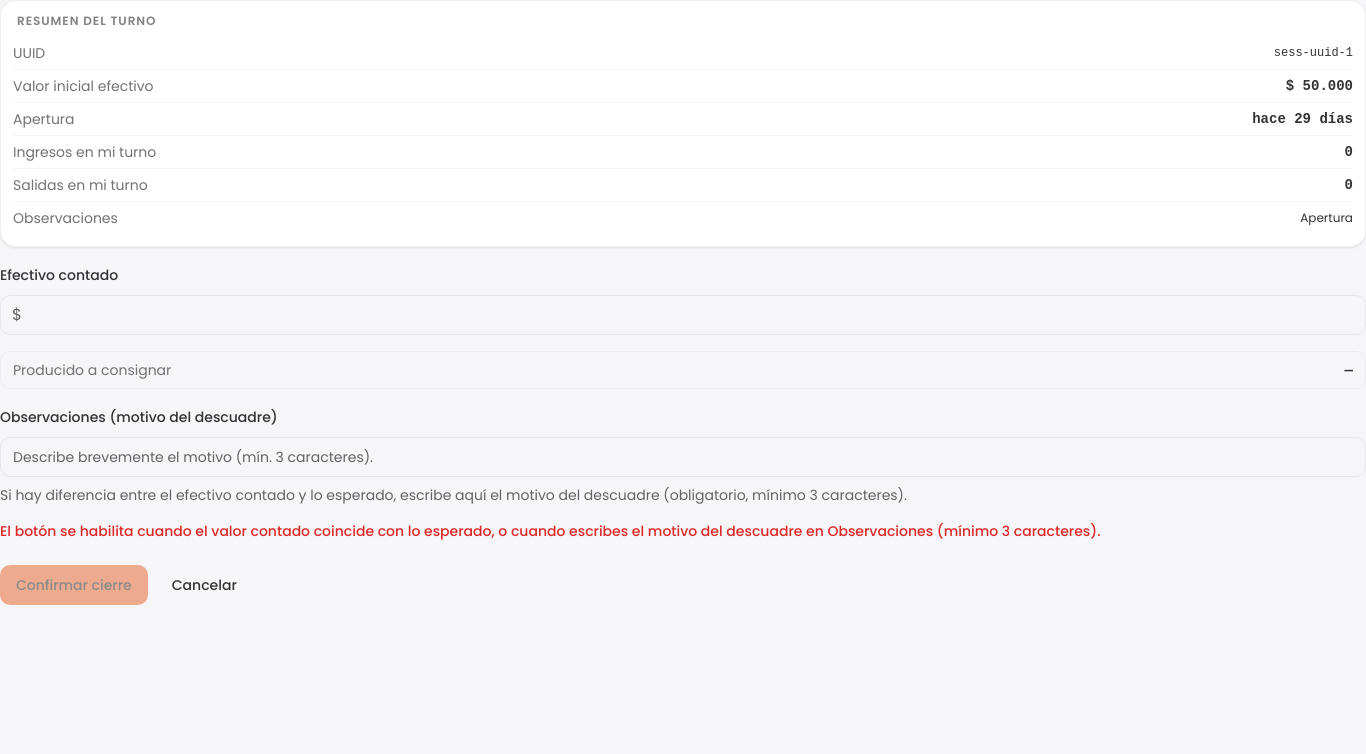
Test: <CerrarTurno /> container — T3 › U12: submit OK → arqueo + cerrarSesion (logout diferido) → resumen de solo lectura, SIN navegar ni cerrar sesión todavía
Step 1. Type "75000" into the field with test id "cerrar-turno-valor-efectivo-reportado" → (683, 315), box [0,295,1365,335]
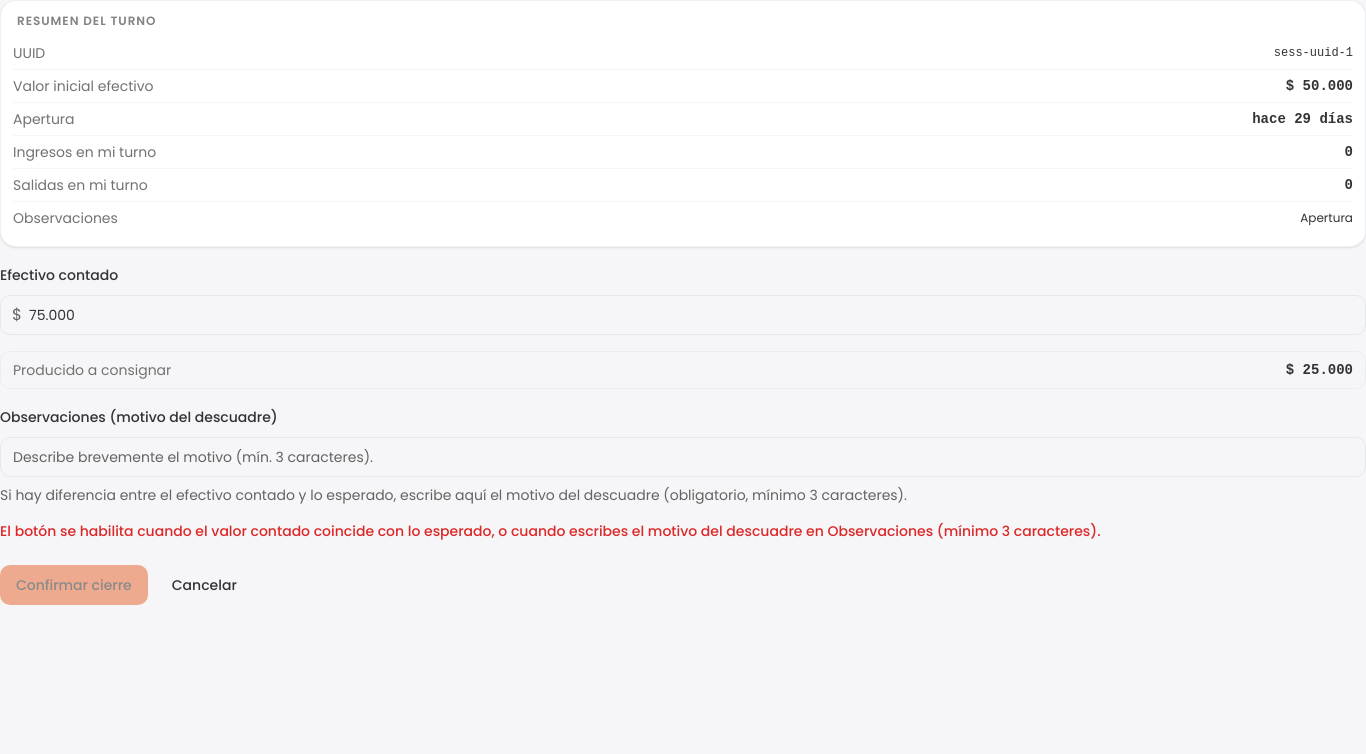
Step 2. Type "Cierre turno tarde" into the field with test id "cerrar-turno-observaciones" → (683, 457), box [0,437,1365,477]
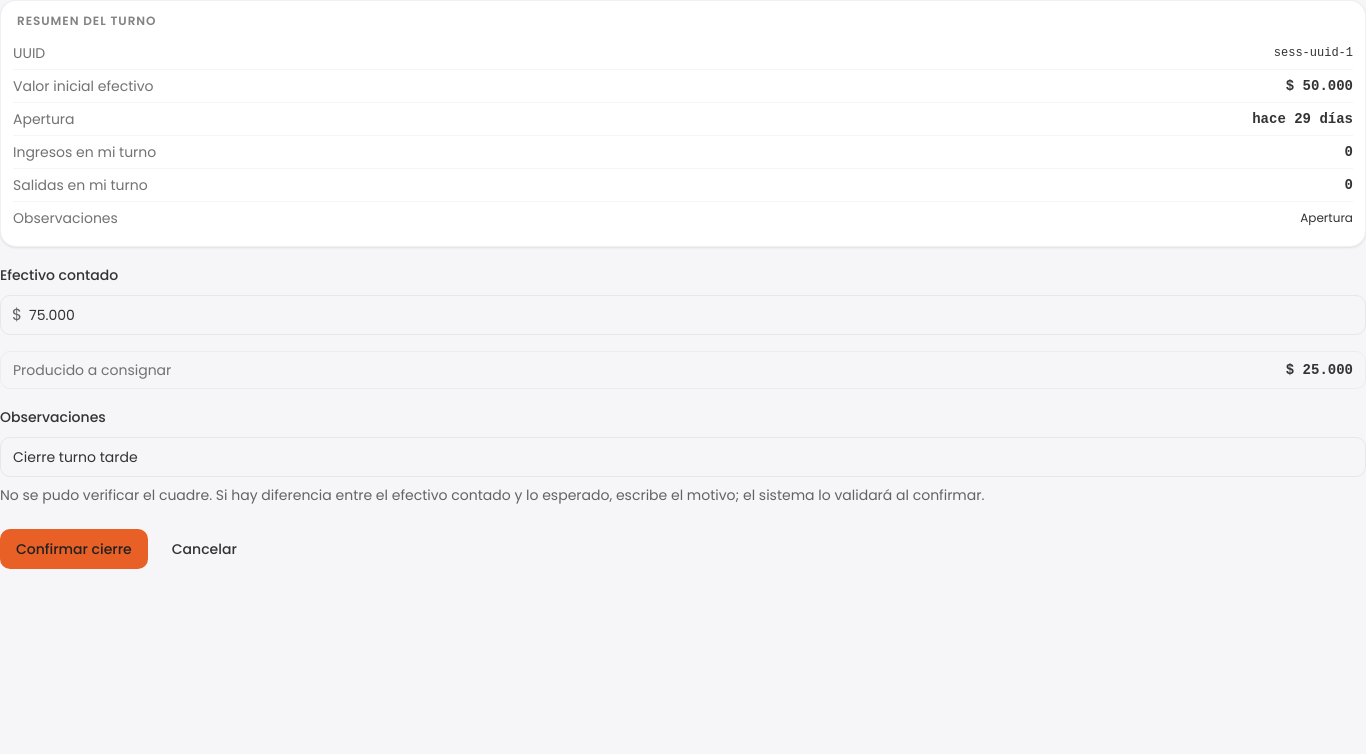
Step 3. Click the button with test id "cerrar-turno-confirmar" → (74, 549), box [0,529,148,569]
(page scrolled)
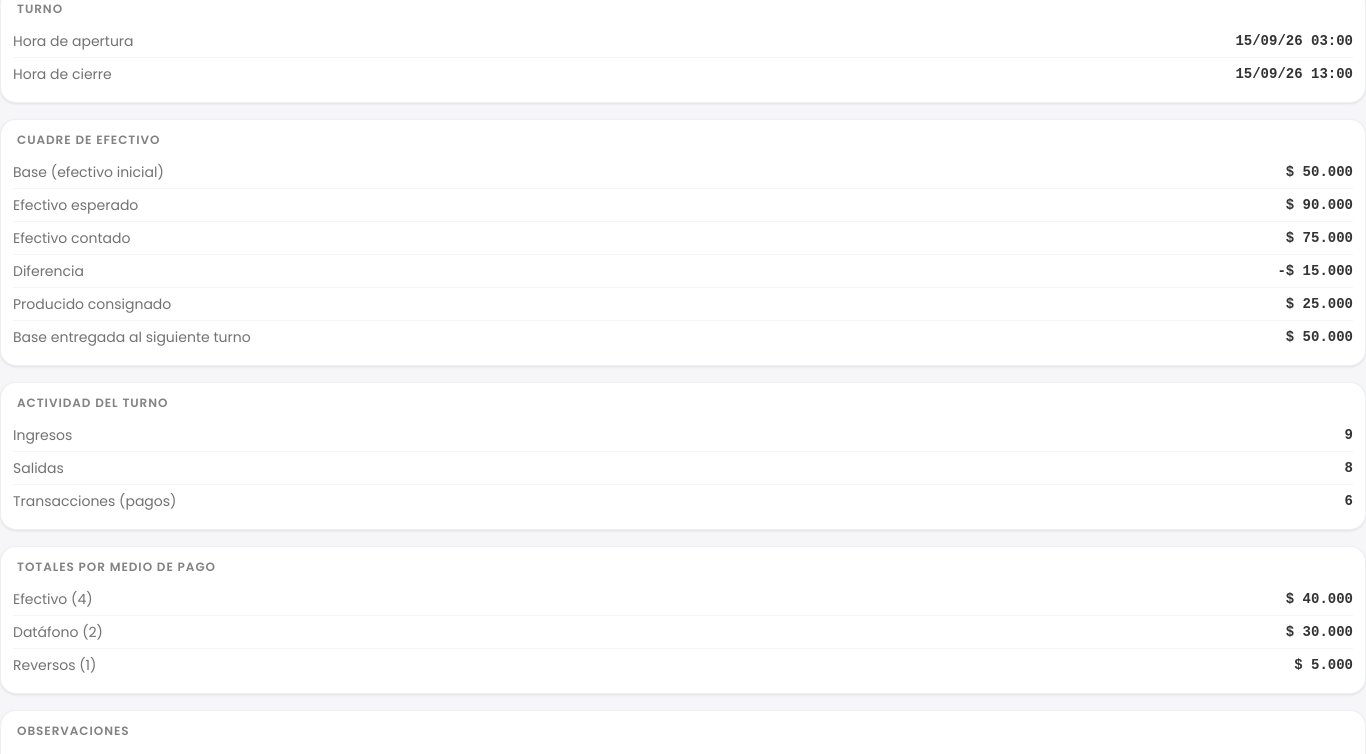
Expected: the element with test id "resumen-cierre-turno" shows "Hora de cierre", [13,64,112,84]
Expected: the element with test id "resumen-cierre-turno" shows "Base (efectivo inicial)", [13,162,164,182]
Expected: the element with test id "resumen-cierre-turno" shows "Efectivo esperado", [13,195,138,215]
